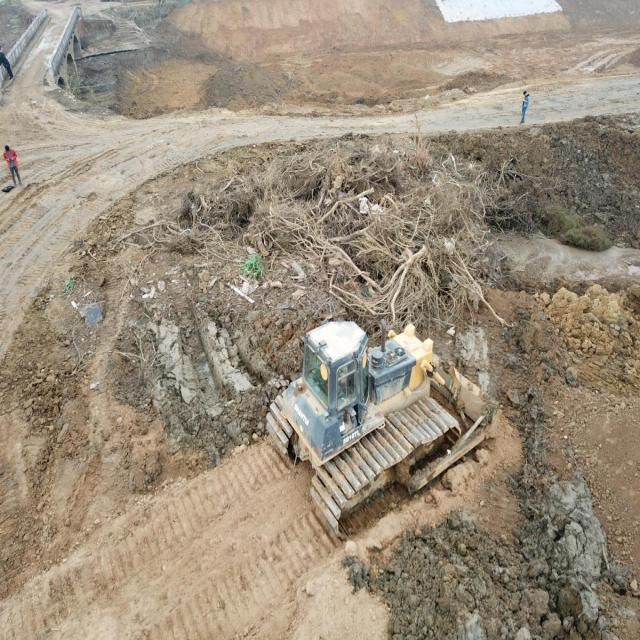machinery: (253, 301, 504, 550)
person: (3, 139, 24, 196), (516, 87, 538, 131), (1, 45, 17, 84)
